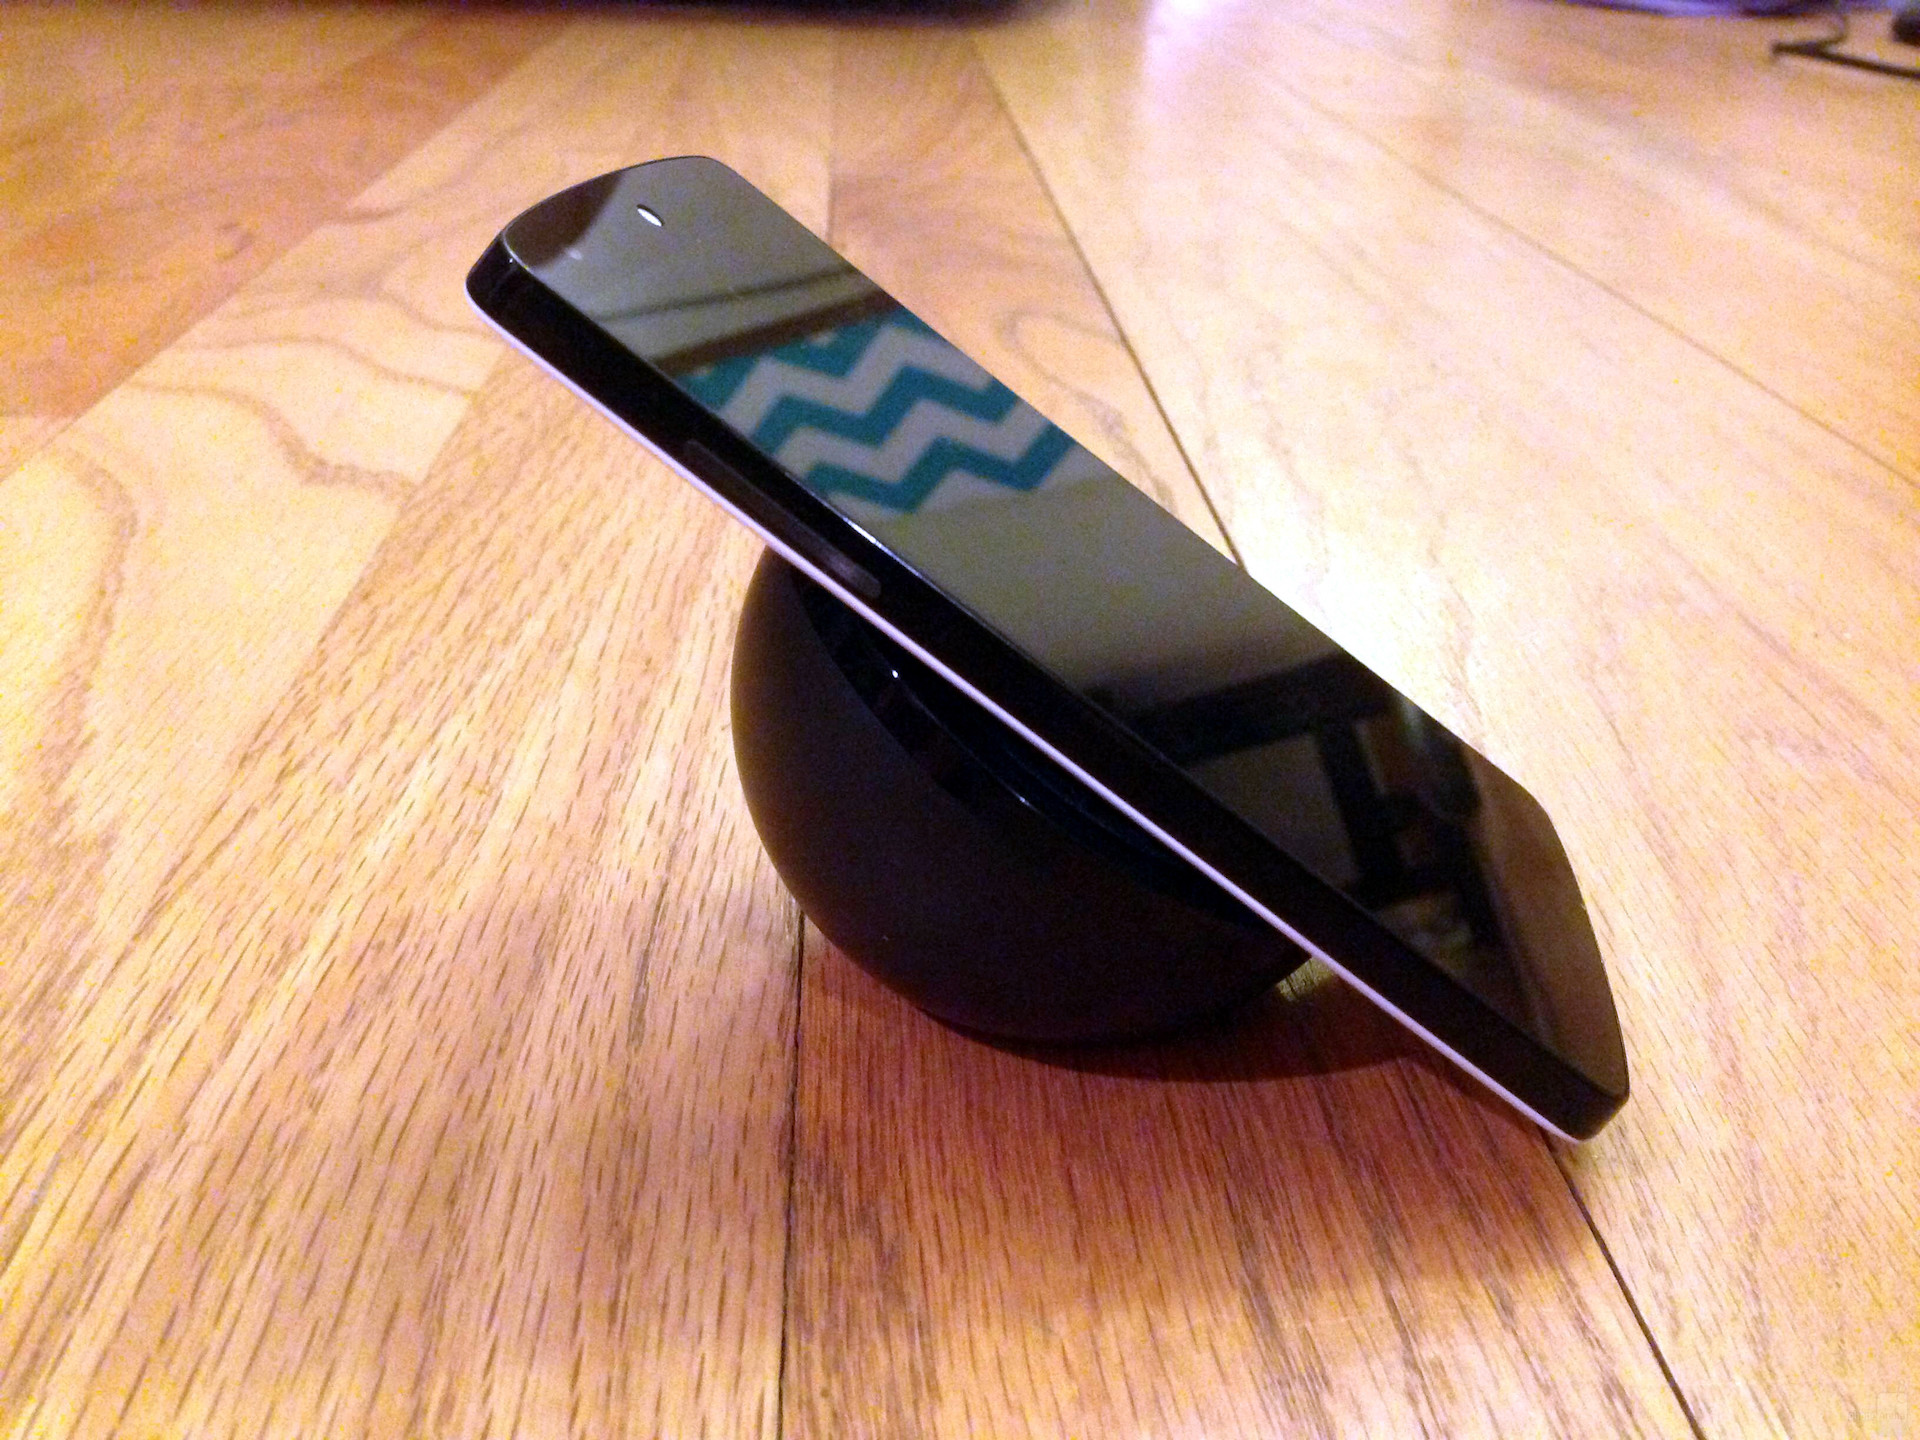smartphone: (460, 151, 1637, 1148)
